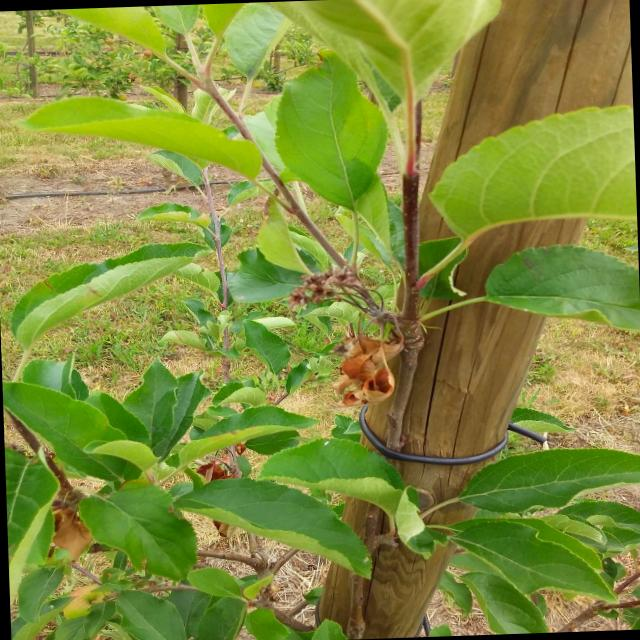-FireBlight-: (323, 308, 404, 407)
